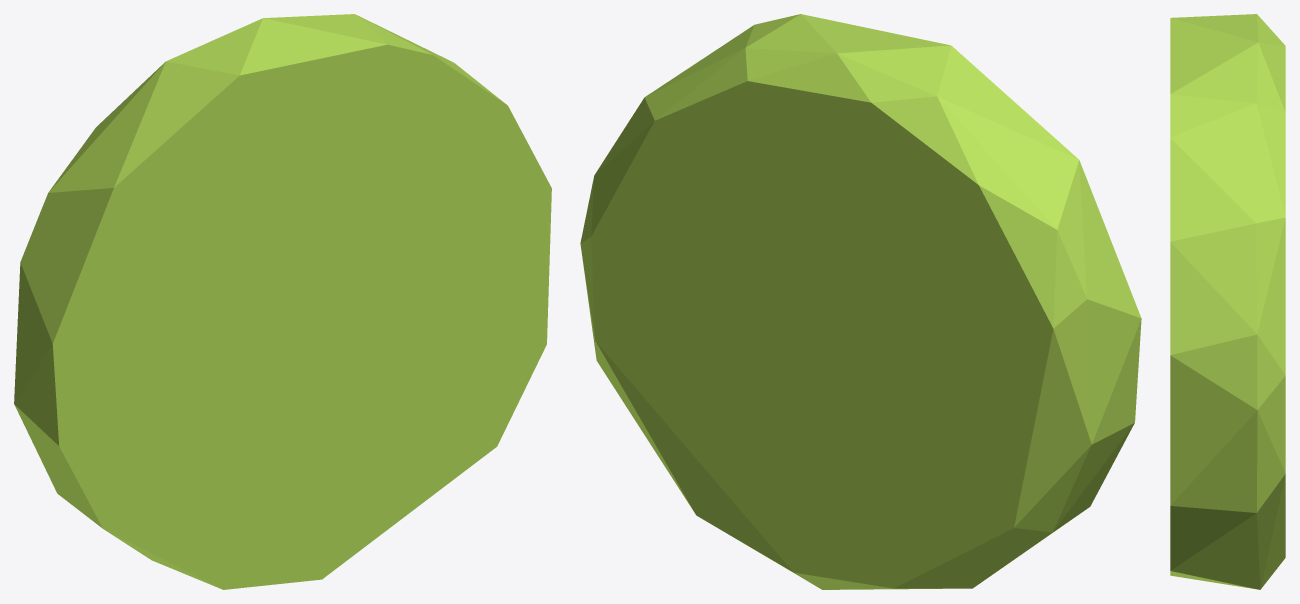
Rendered from ur3_link_2_coll_4.dae.
3 renders of one model, left to right at view 1: azimuth 30°, elevation 25°; view 2: azimuth 150°, elevation 25°; view 3: azimuth 270°, elevation 25°, orthographic. The views are drawn at different scales.
Visible parts, largest first — view 1: Node_000002223FC9BBD0; view 2: Node_000002223FC9BBD0; view 3: Node_000002223FC9BBD0.
Boxes of the visible parts, <box> form: Node_000002223FC9BBD0: <box>14,14,551,589</box>; Node_000002223FC9BBD0: <box>580,14,1141,589</box>; Node_000002223FC9BBD0: <box>1170,14,1285,589</box>.
Size of the model in its own units: 0.0744 by 0.0746 by 0.0148.
